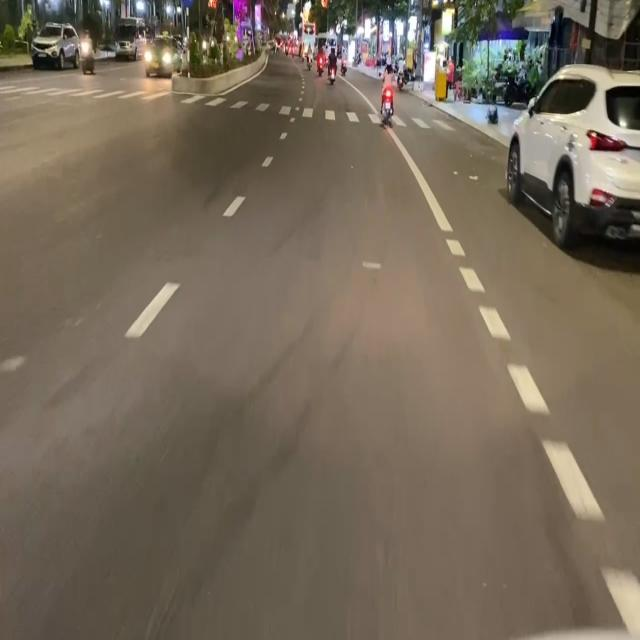walk-crossing: (8, 76, 462, 138)
